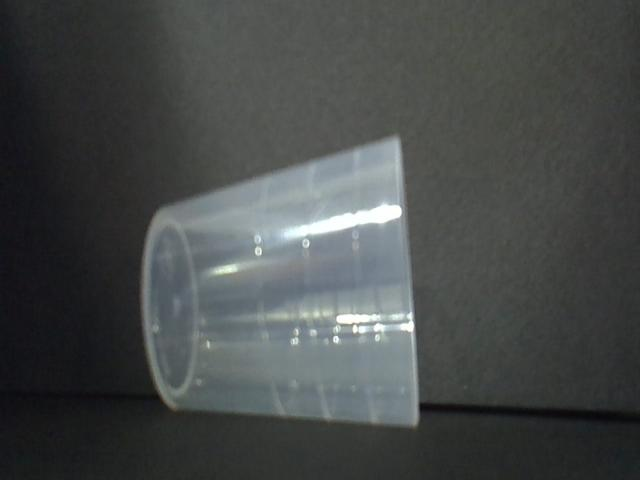cup: (135, 130, 430, 434)
